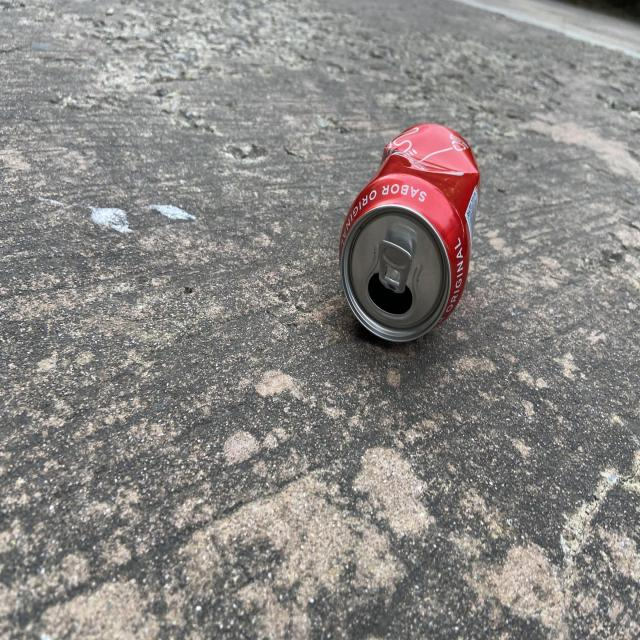can: (340, 123, 481, 341)
